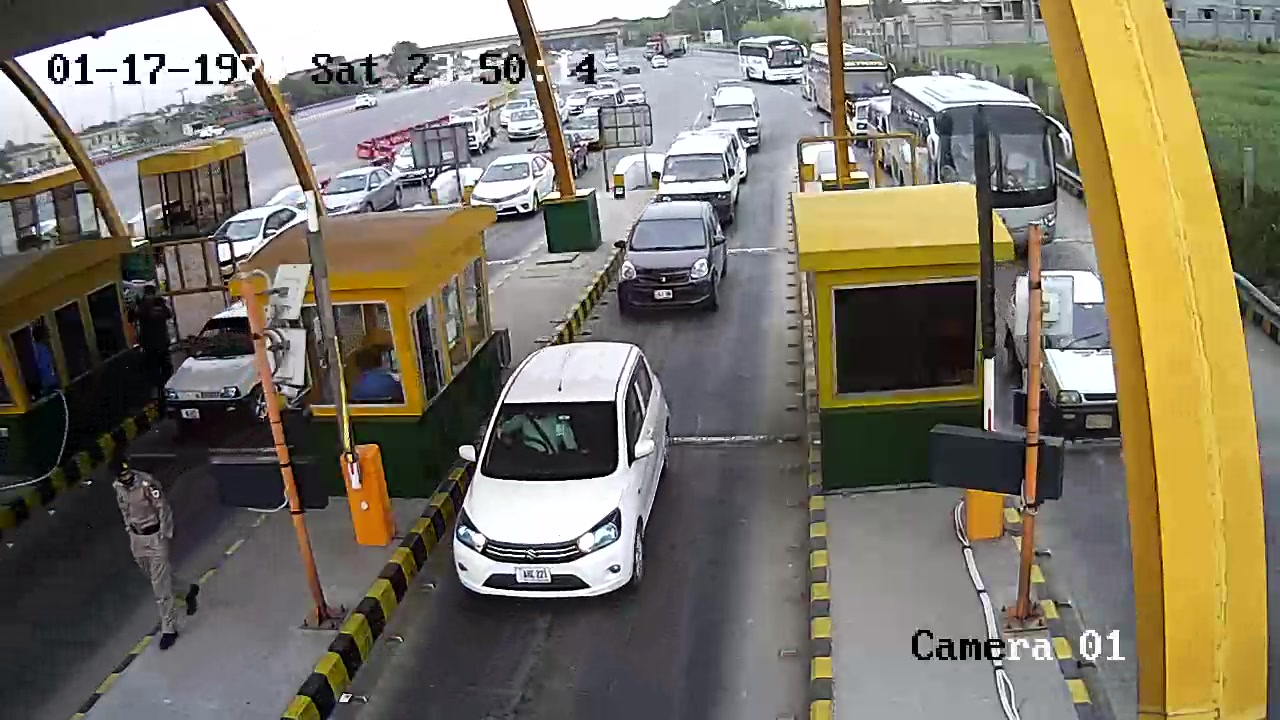F1: (451, 335, 677, 606), (611, 193, 732, 328)
